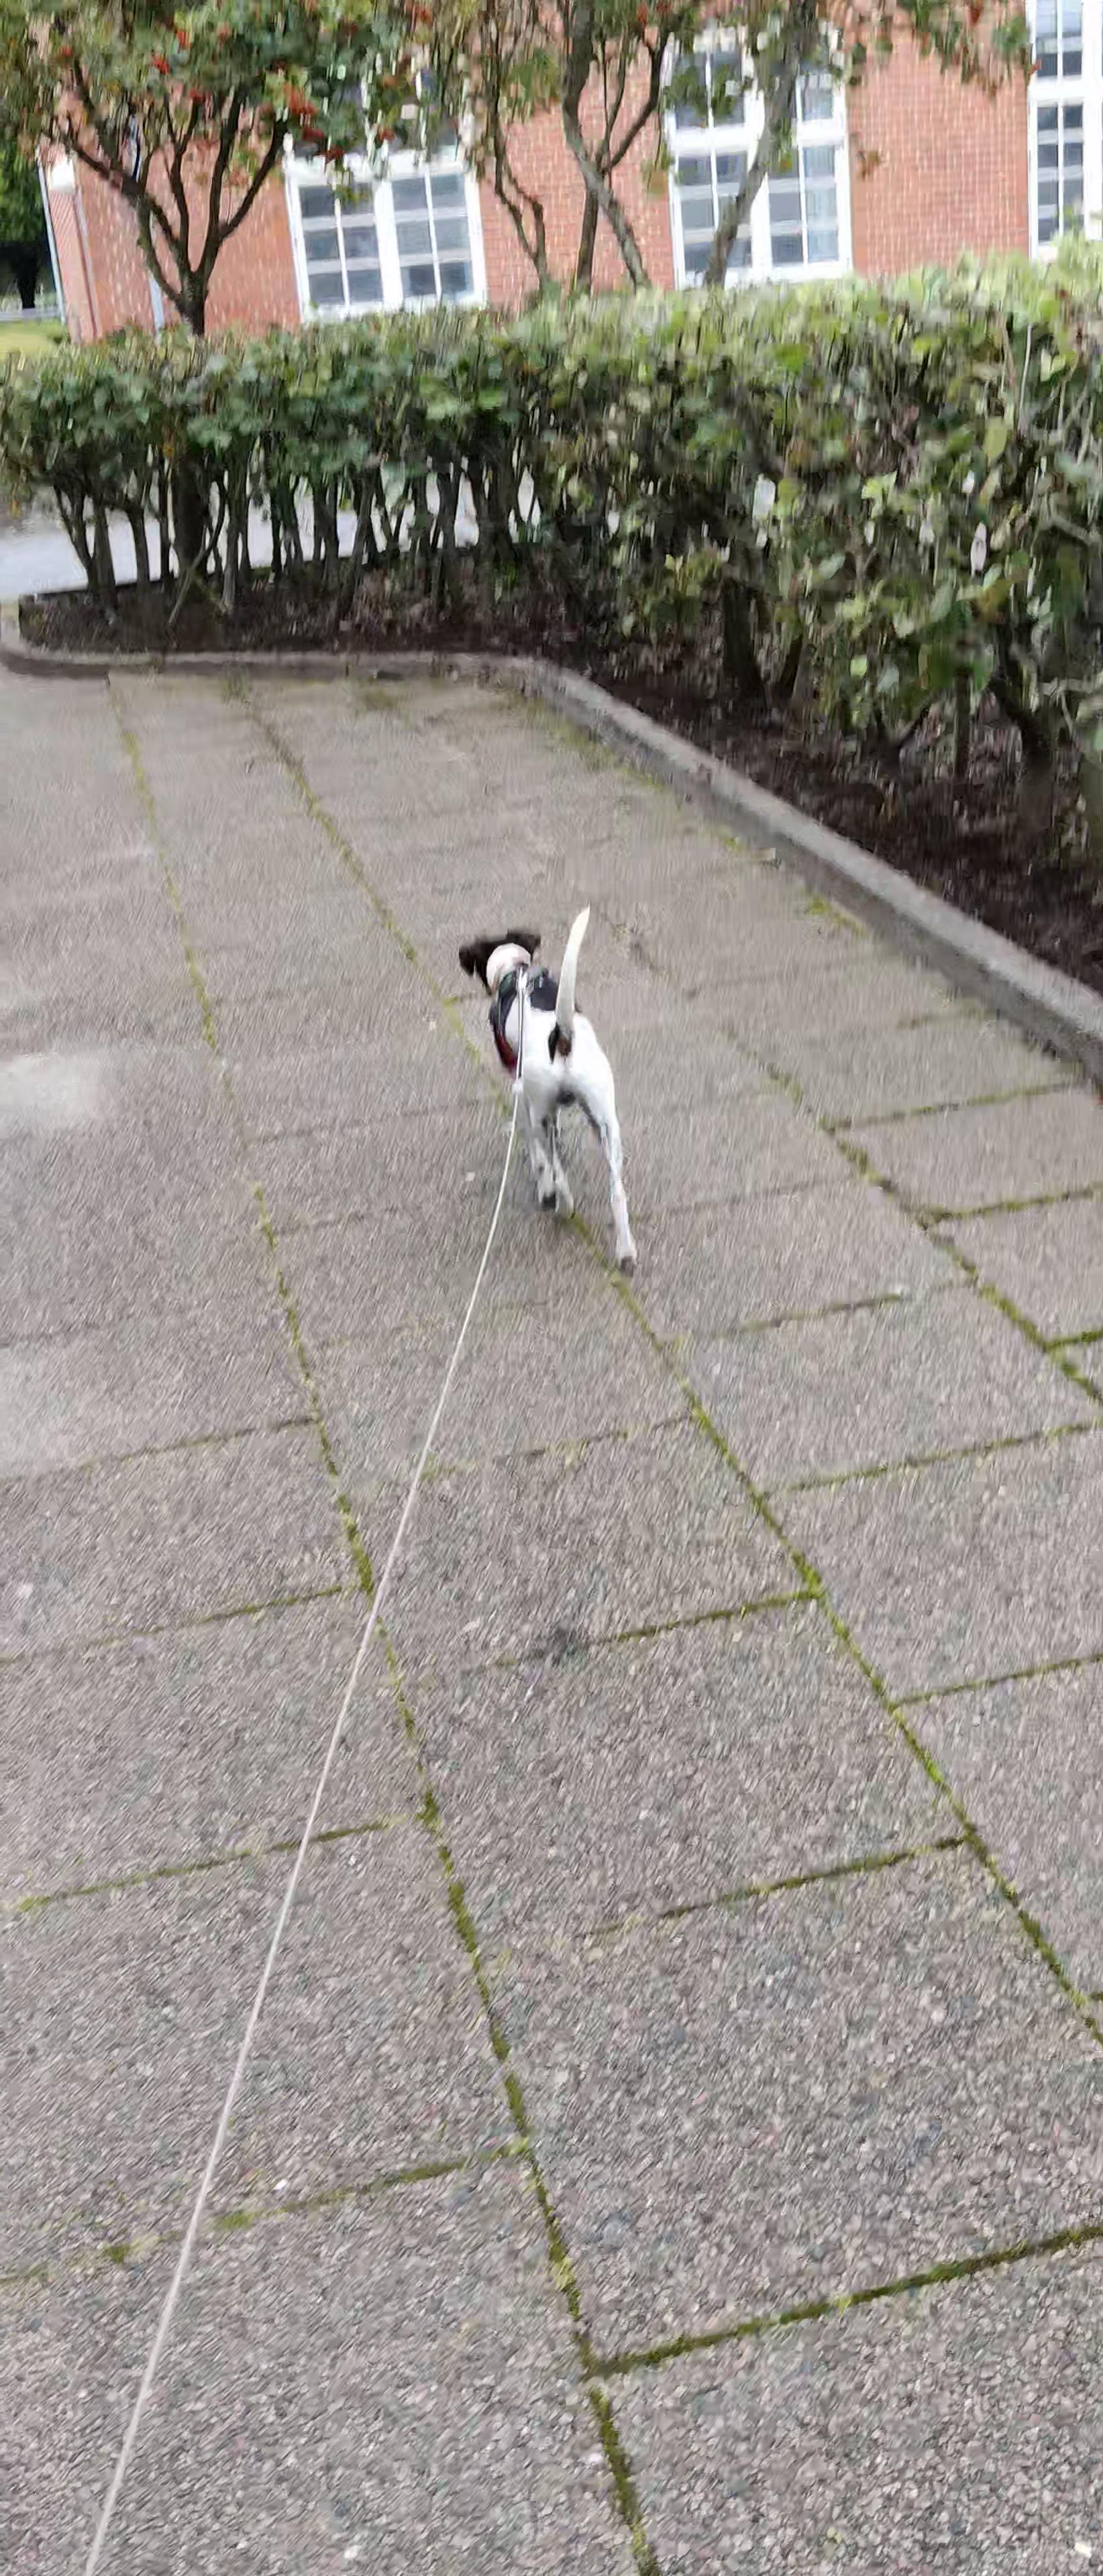Dog: (449, 892, 646, 1280)
